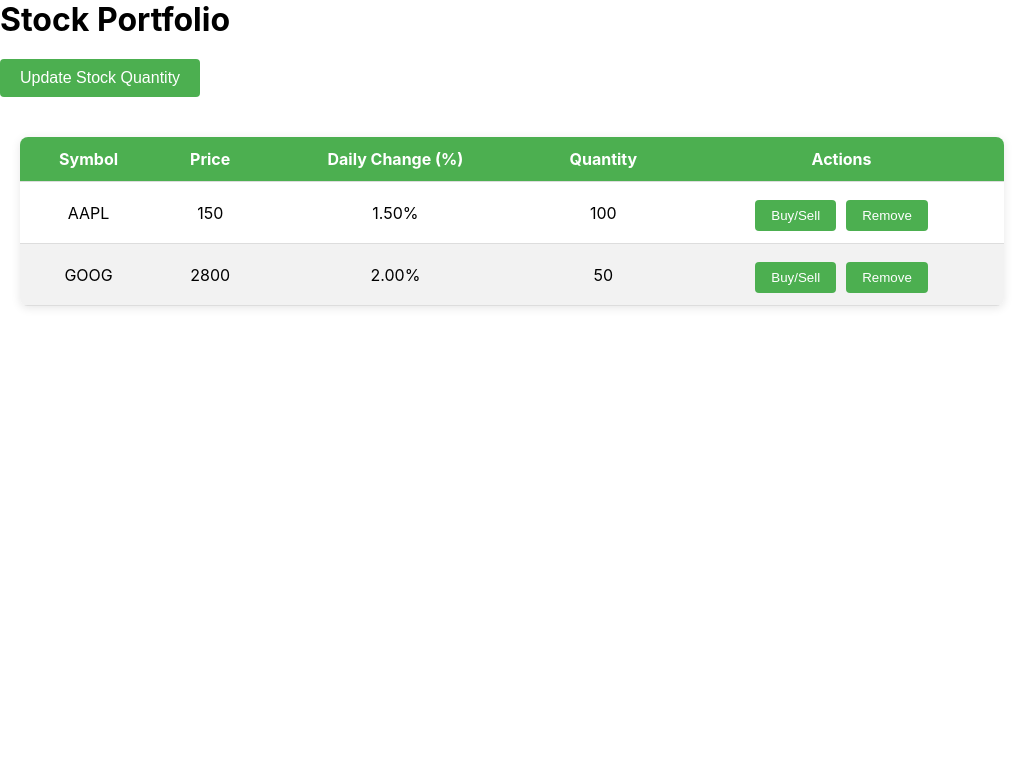
Scenario: App › opens the modal when 'Update Stock Quantity' button is clicked
Click the button with test id "update-stock-btn" at (100, 78), box x1=0 y1=59 x2=200 y2=97
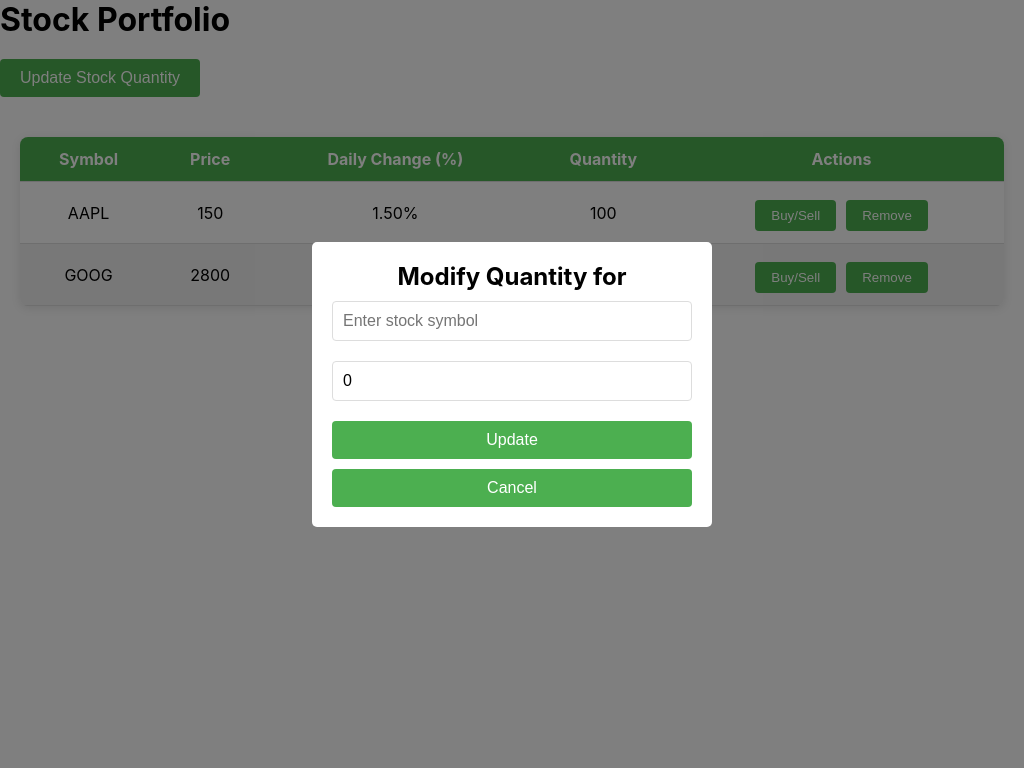
Expected: the heading "Modify Quantity for" is shown, x1=397 y1=262 x2=626 y2=290
